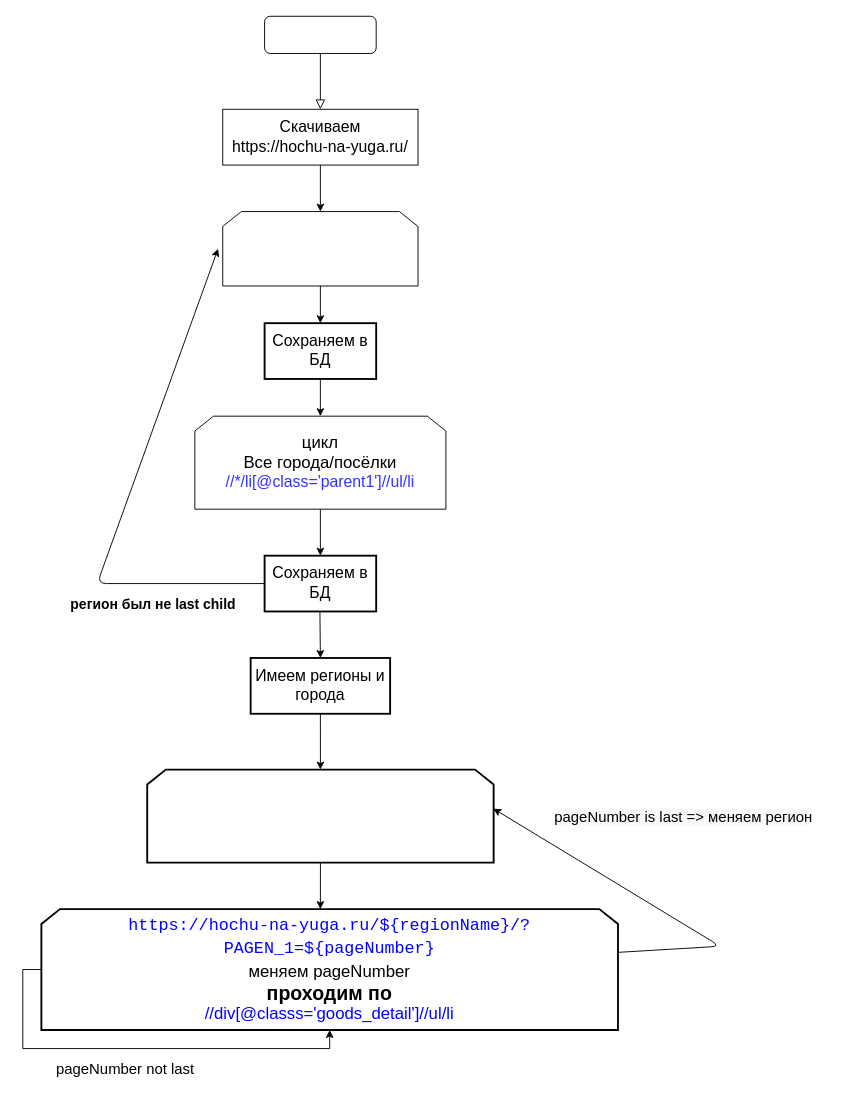
This 847x1102 diagram has some shape labels left out. Each missing label, with the centre of its shape:
"Запуск" belongs at [320,34].
"Проход по регионам https://hochu-na-yuga.ru/${regionName}/" belongs at [320,815].
"цикл Находим все регионы (//*/li[@class='parent1']//a)" belongs at [320,248].
